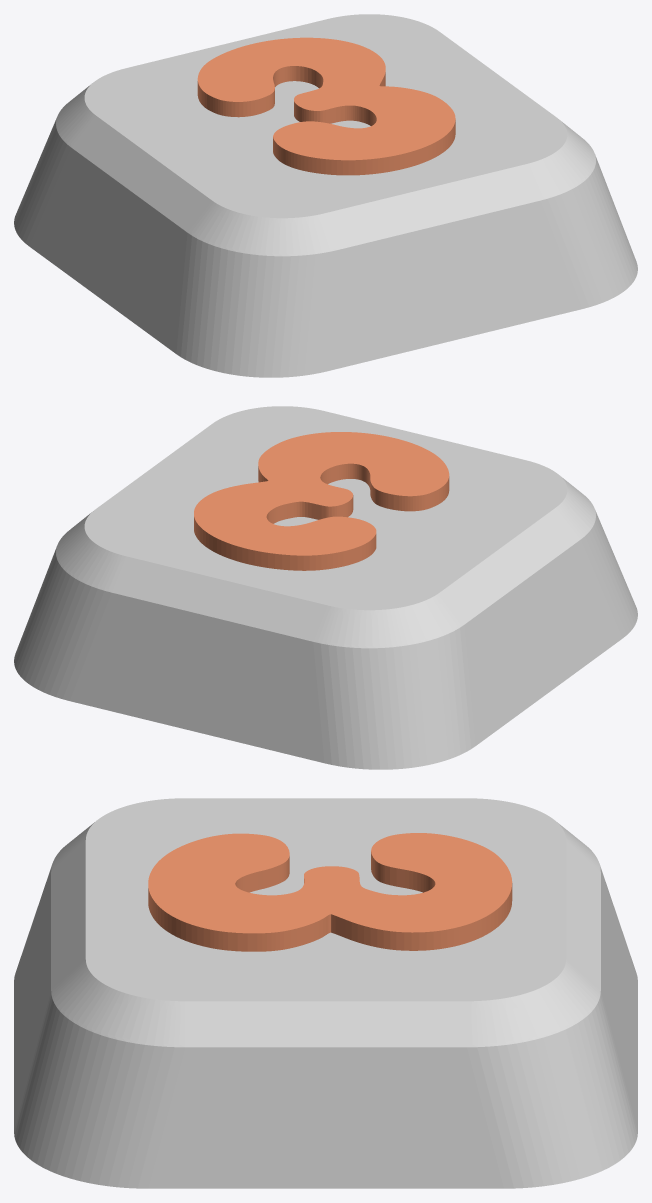
The model's file is cap-3.glb.
3 renders of one model, top to bottom at view 1: azimuth 30°, elevation 25°; view 2: azimuth 150°, elevation 25°; view 3: azimuth 270°, elevation 25°, orthographic. The views are drawn at different scales.
Visible parts, largest first — view 1: cap_0, glyph_1; view 2: cap_0, glyph_1; view 3: cap_0, glyph_1.
Boxes of the visible parts, bbox=[...] form: cap_0: bbox=[14, 14, 637, 377]; glyph_1: bbox=[197, 37, 455, 175]; cap_0: bbox=[14, 406, 637, 769]; glyph_1: bbox=[194, 432, 449, 570]; cap_0: bbox=[14, 798, 637, 1188]; glyph_1: bbox=[148, 833, 512, 951].
Size of the model in its own units: 18 by 5.59 by 18.
